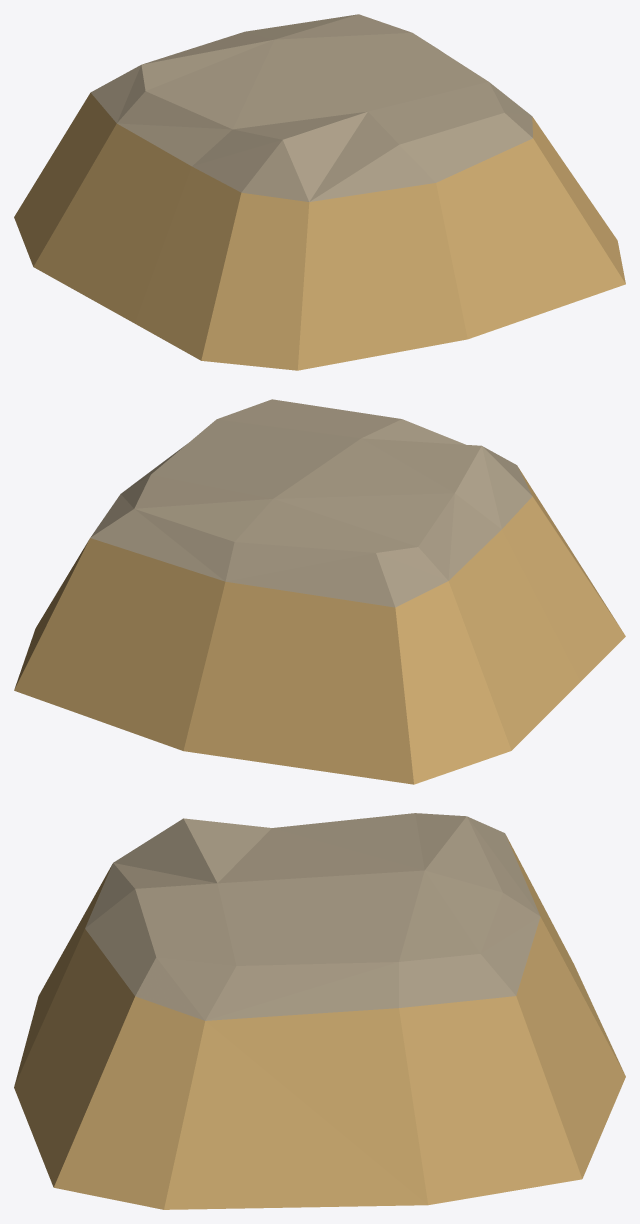
The model's file is TB_D_Env_MtA_B.FBX.
3 views of the same model, one above another, from view 1: azimuth 30°, elevation 25°; view 2: azimuth 150°, elevation 25°; view 3: azimuth 270°, elevation 25° (orthographic). The views are drawn at different scales.
Visible parts, largest first — view 1: TB_D_Env_MtA_B; view 2: TB_D_Env_MtA_B; view 3: TB_D_Env_MtA_B.
Boxes of the visible parts, bbox=[...] form: TB_D_Env_MtA_B: bbox=[14, 14, 625, 370]; TB_D_Env_MtA_B: bbox=[14, 399, 625, 784]; TB_D_Env_MtA_B: bbox=[14, 813, 625, 1209].
Size of the model in its own units: 13.58 by 4.91 by 13.18.
